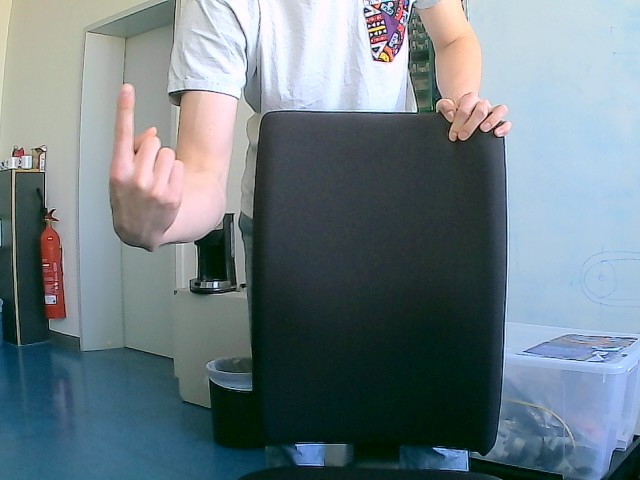no_gesture: (435, 91, 512, 143)
up: (108, 82, 186, 252)
